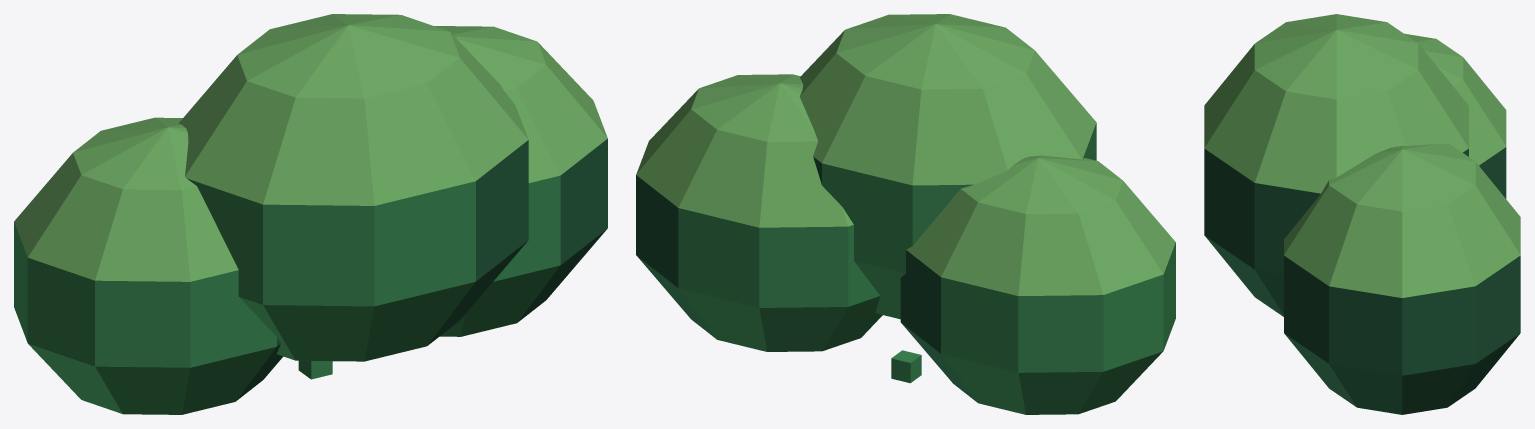
File: berry_stage_02.fbx
3 views of the same model, side by side, from view 1: azimuth 30°, elevation 25°; view 2: azimuth 150°, elevation 25°; view 3: azimuth 270°, elevation 25° (orthographic). The views are drawn at different scales.
Visible parts, largest first — view 1: berry_stage_02__Foliage, berry_stage_02__Origin; view 2: berry_stage_02__Foliage, berry_stage_02__Origin; view 3: berry_stage_02__Foliage.
Boxes of the visible parts, x1,y1,x2,y2 form: berry_stage_02__Foliage: (14, 14, 607, 414); berry_stage_02__Origin: (298, 360, 332, 379); berry_stage_02__Foliage: (636, 14, 1175, 414); berry_stage_02__Origin: (891, 350, 921, 383); berry_stage_02__Foliage: (1204, 14, 1520, 414).
Size of the model in its own units: 1.06 by 0.6559 by 0.5868.
1 material, 1 textured.
